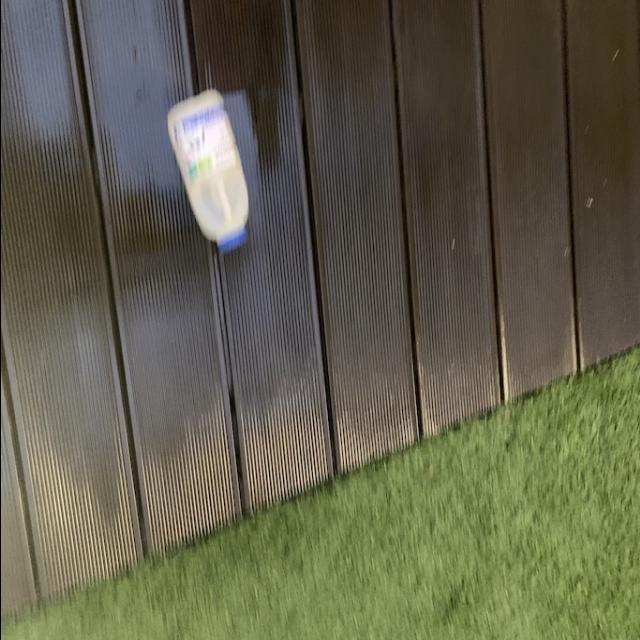litter: (161, 89, 253, 255)
